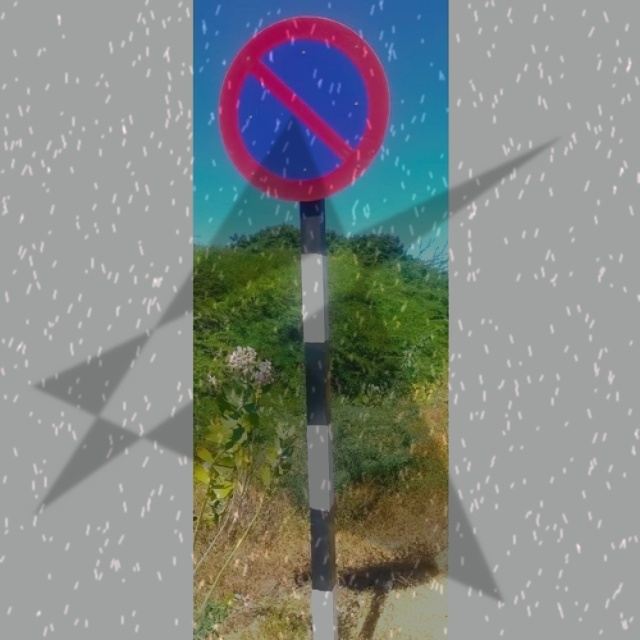No_Stopping_or_Standing: (228, 18, 382, 200)
